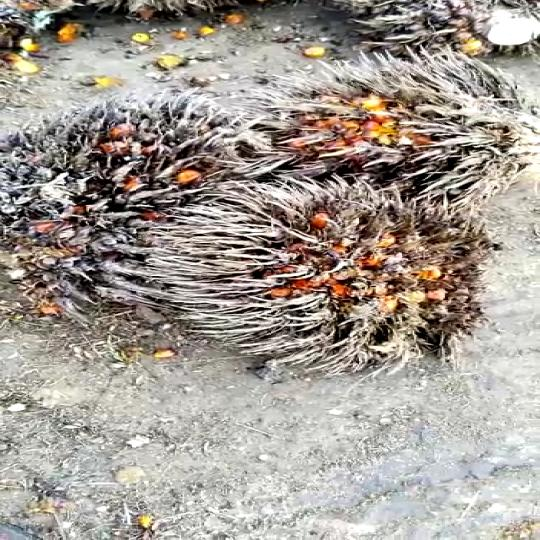terlalu masak: (140, 185, 483, 375), (0, 97, 244, 302), (229, 54, 540, 199)
